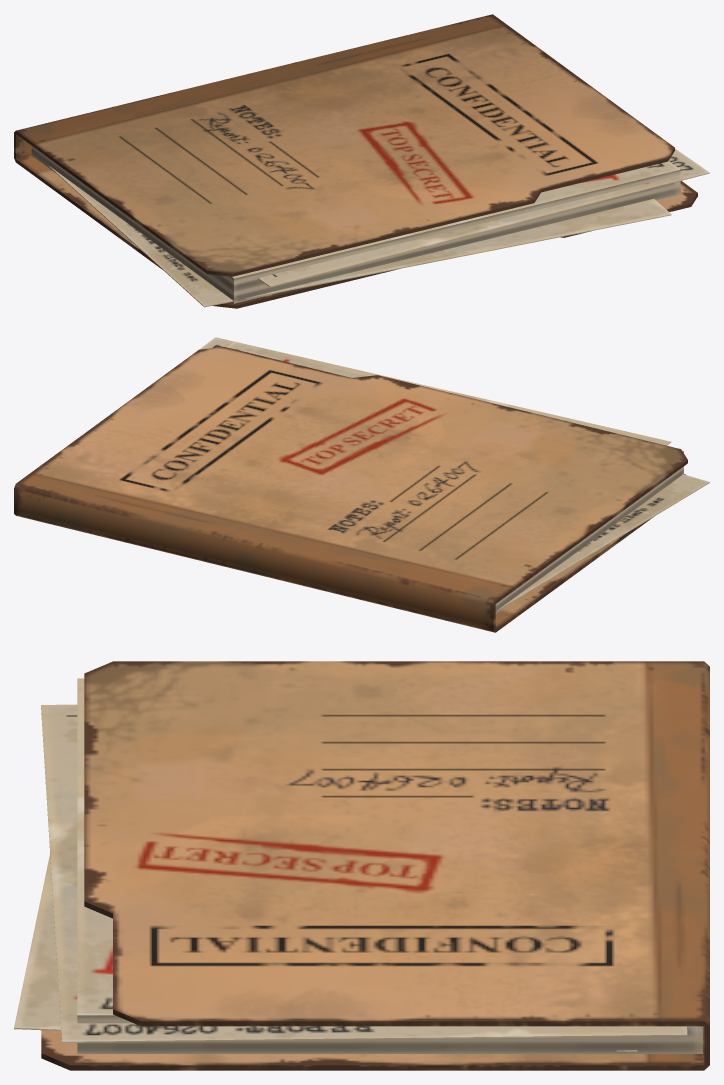
The model's file is fileFolder02_B.fbx.
3 renders of one model, top to bottom at view 1: azimuth 30°, elevation 25°; view 2: azimuth 150°, elevation 25°; view 3: azimuth 270°, elevation 25°, orthographic. The views are drawn at different scales.
Parts seen in each view (by area): view 1: fileFolder02_B; view 2: fileFolder02_B; view 3: fileFolder02_B.
Boxes of the visible parts, x1,y1,x2,y2 form: fileFolder02_B: (14, 14, 709, 308); fileFolder02_B: (14, 337, 709, 632); fileFolder02_B: (14, 661, 709, 1070).
Bounding box in the file's own units: 31.16 × 1.9 × 24.36.
